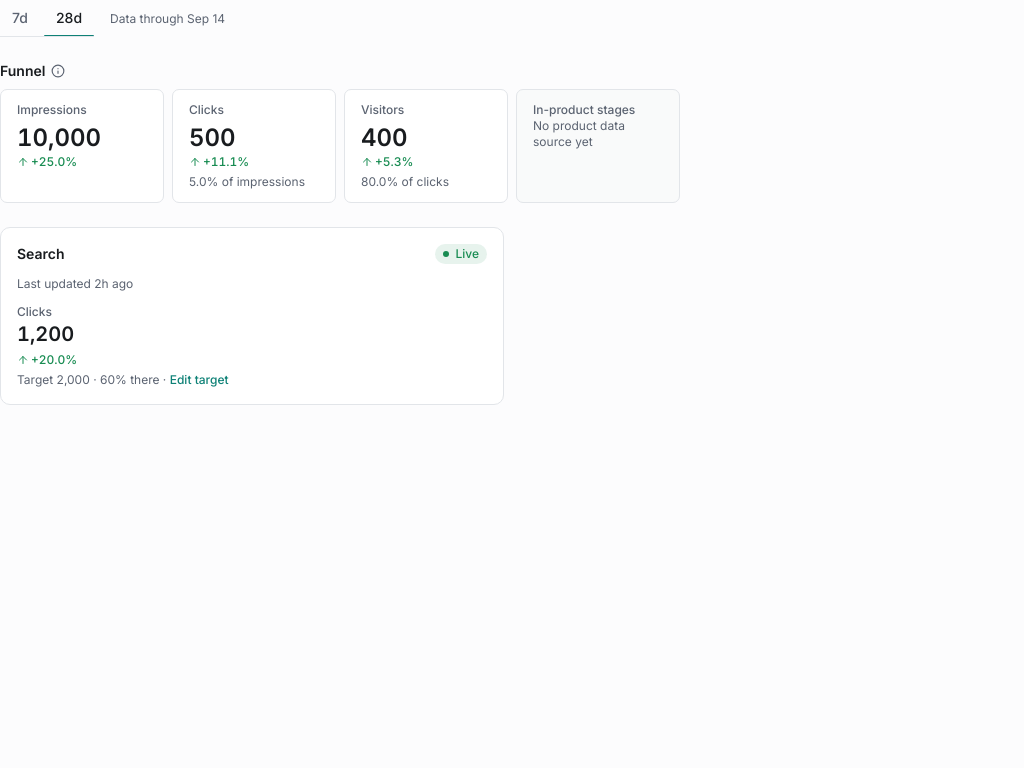
Test case: OverviewPanel › removes a target
Step 1. Click the button with aria-label "Edit target for Clicks" → (199, 380), box [170,372,229,388]
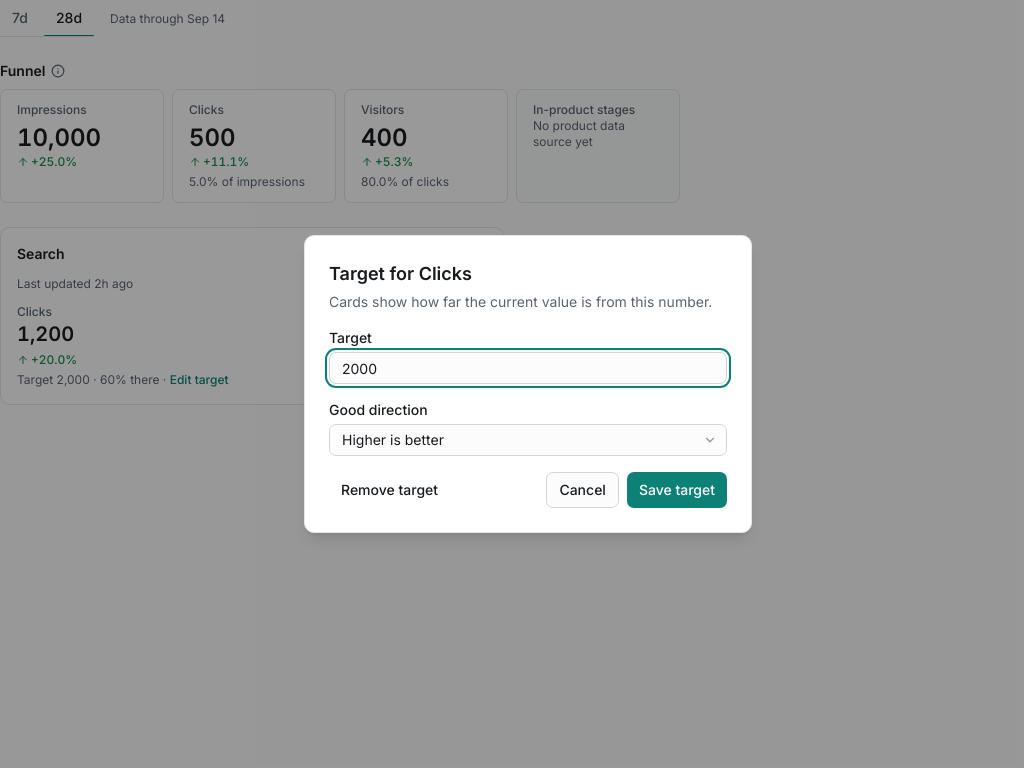
Step 2. Click the button "Remove target" → (390, 490), box [329,472,450,508]
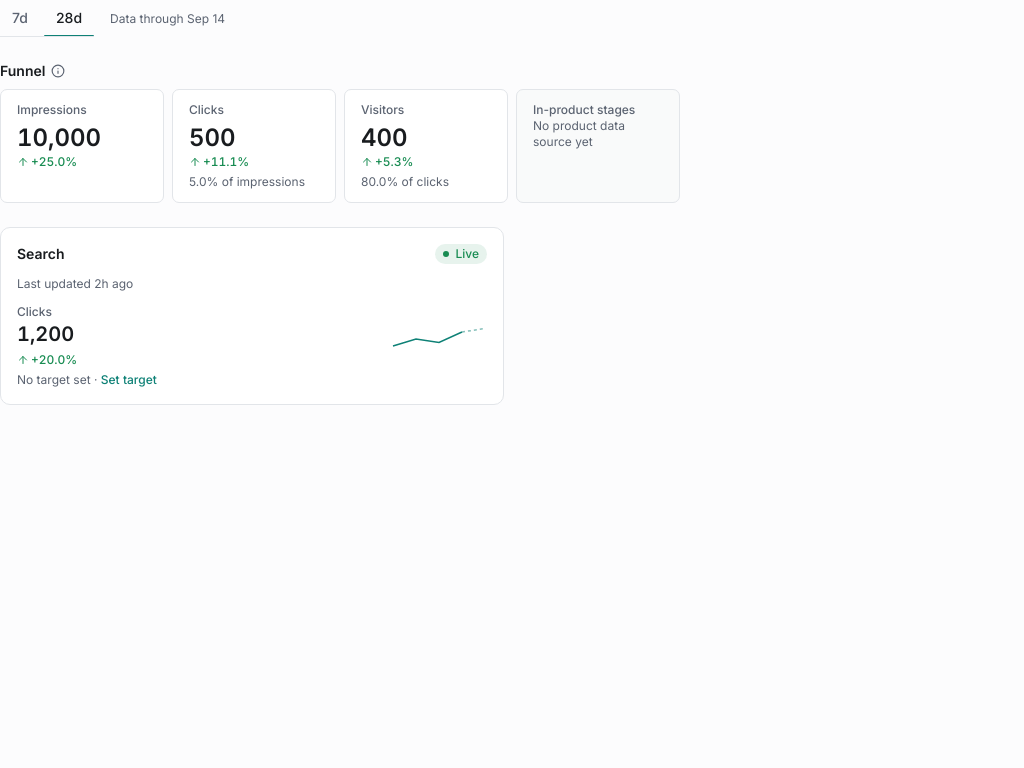
Expected: the text "No target set · Set target" is shown, [17,372,157,388]
